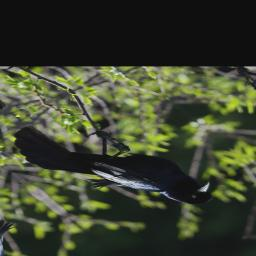Crow: (0, 94, 227, 241)
